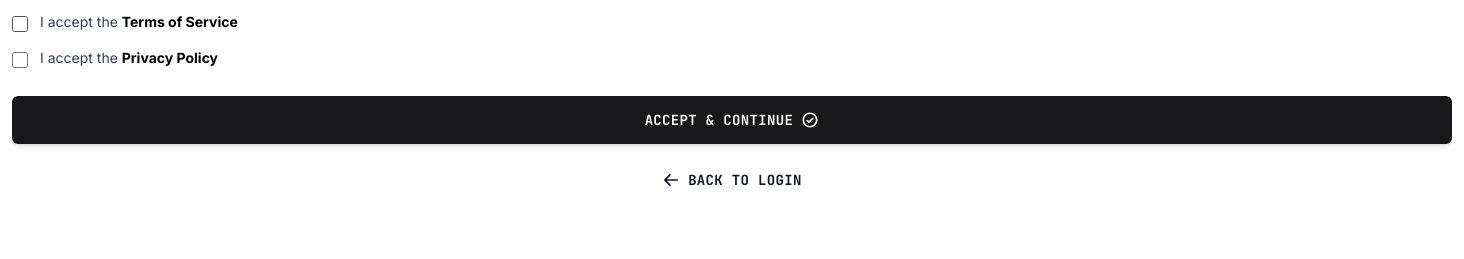
RegulationsForm › shows validation errors when submitting without checking boxes
The image size is (1464, 259).
Click the button "Accept & Continue" at [732, 120], box [12,96,1452,144]
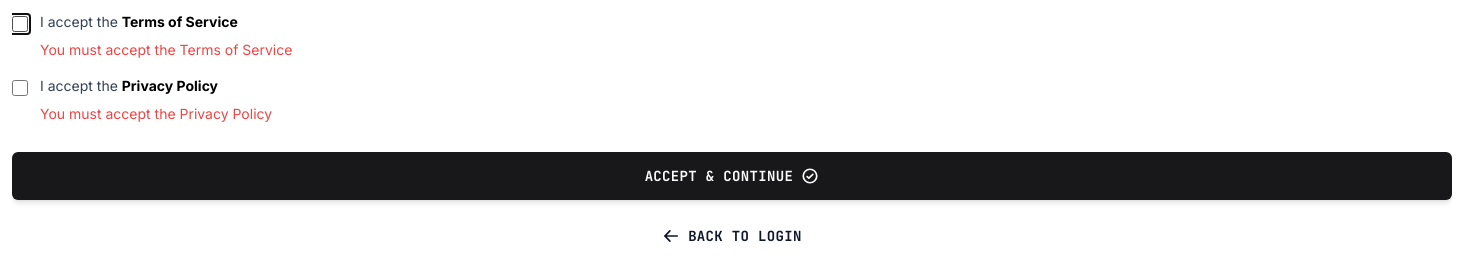
expect the text "You must accept the Terms of Service" is shown: met, box [40,41,292,58]
expect the text "You must accept the Privacy Policy" is shown: met, box [40,105,272,122]
